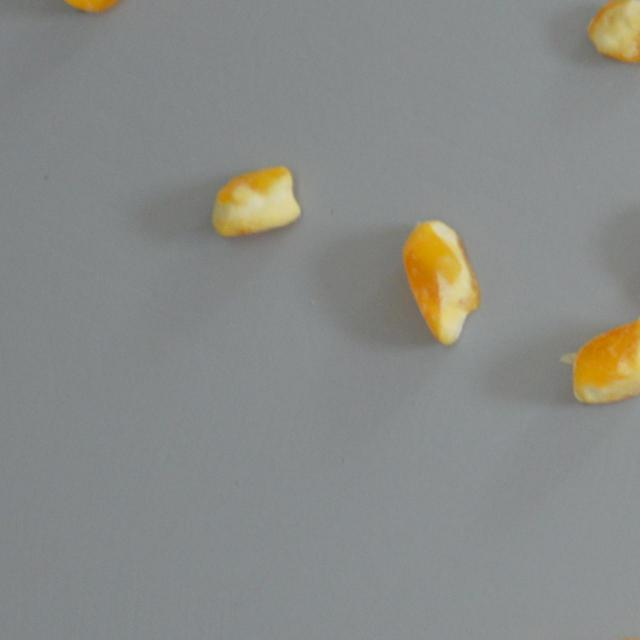dañado: (204, 160, 311, 241), (557, 306, 640, 406), (586, 0, 640, 68), (54, 0, 178, 17)
punto_negro: (399, 214, 483, 349)
